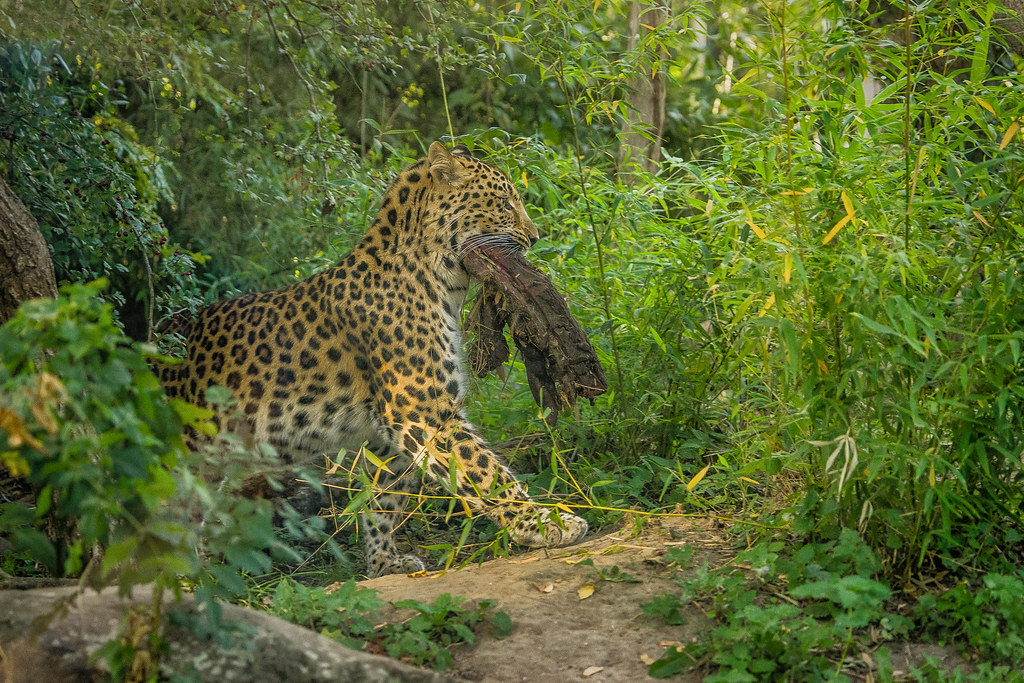amur_leopard: (189, 134, 625, 563)
